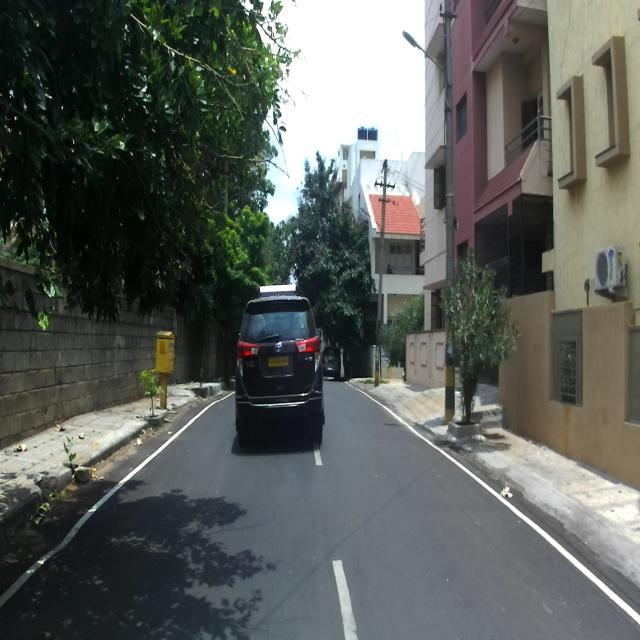barrier ahead at: (155, 326, 175, 414)
car ahead at: (238, 285, 326, 442)
electric pole ahead at: (440, 0, 459, 421)
plant ahead at: (442, 256, 514, 430)
